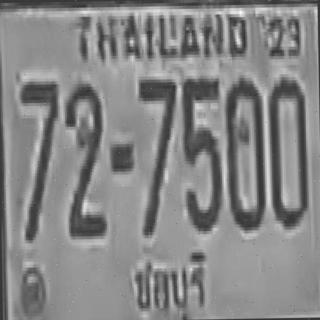N00: (224, 74, 264, 228), (267, 74, 307, 227)
N02: (64, 79, 104, 235)
N05: (180, 74, 221, 230)
N07: (18, 78, 59, 240), (137, 76, 178, 235)
P13: (126, 243, 205, 320)
